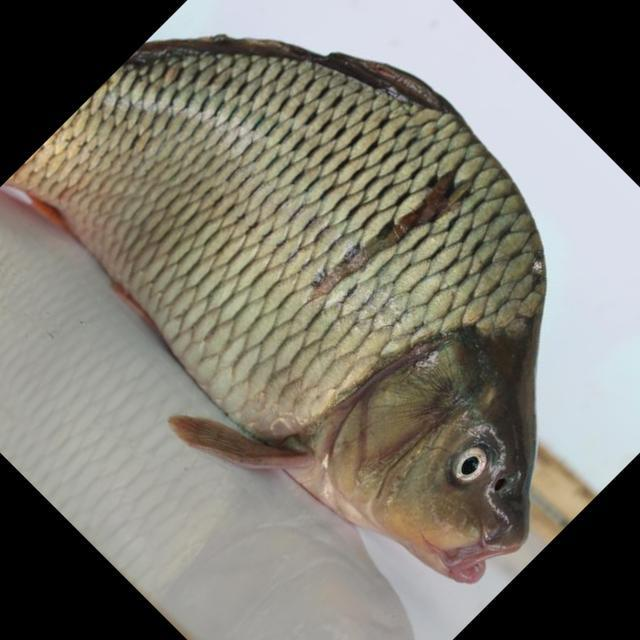CommonCarp: (37, 32, 555, 589)
